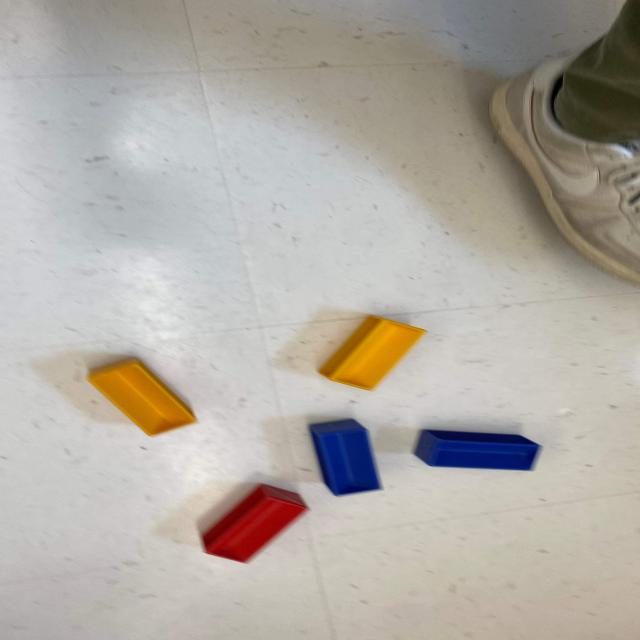blue-specimen: (305, 417, 383, 496), (410, 427, 544, 472)
red-specimen: (201, 483, 311, 566)
yellow-specimen: (313, 312, 432, 394), (83, 353, 199, 437)
